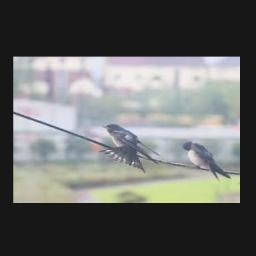Swallow: (99, 123, 160, 174), (182, 141, 231, 182)
